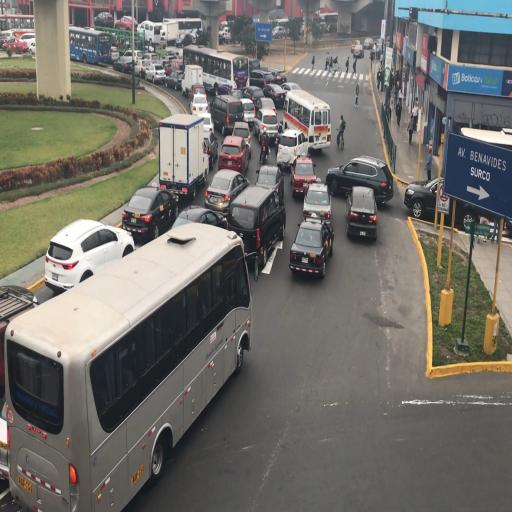auto: (44, 216, 133, 290), (409, 176, 508, 236), (227, 181, 284, 272), (0, 284, 38, 410), (122, 183, 180, 241), (326, 154, 391, 204), (289, 218, 333, 278), (204, 166, 249, 218), (404, 174, 445, 222), (345, 184, 377, 240), (211, 94, 244, 136), (274, 127, 305, 170), (255, 164, 285, 208), (302, 179, 330, 225), (218, 133, 250, 173), (290, 156, 319, 200), (255, 106, 279, 147), (230, 119, 253, 155), (261, 82, 287, 109), (117, 49, 142, 73), (250, 68, 276, 91), (199, 112, 215, 144), (3, 36, 30, 54), (145, 62, 166, 84), (279, 81, 301, 101), (163, 55, 182, 77), (256, 94, 276, 114), (165, 69, 184, 90), (139, 57, 156, 79), (94, 11, 114, 29), (114, 15, 136, 30), (270, 69, 288, 85), (272, 25, 287, 39), (352, 42, 364, 58), (220, 29, 232, 44), (362, 37, 374, 50)
bus: (6, 226, 248, 500), (281, 87, 330, 154), (183, 45, 242, 96), (70, 25, 111, 65), (163, 18, 202, 46), (138, 20, 165, 49)
camion: (157, 113, 208, 204), (181, 64, 204, 99)
